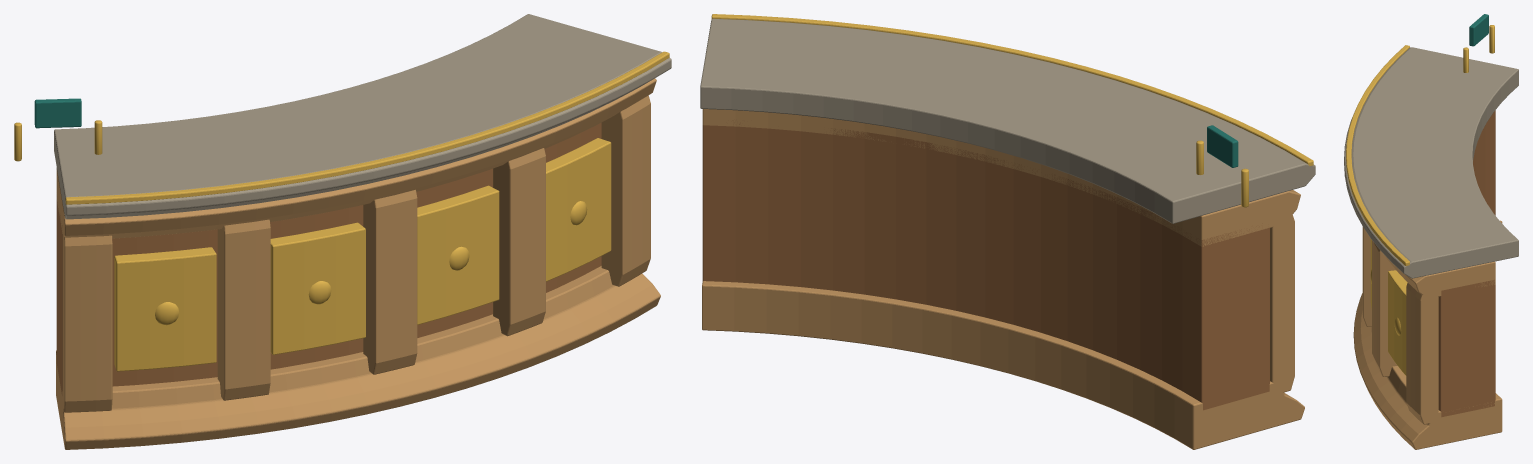
Rendered from welcome-desk.glb.
3 views of the same model, side by side, from view 1: azimuth 30°, elevation 25°; view 2: azimuth 150°, elevation 25°; view 3: azimuth 270°, elevation 25° (orthographic). The views are drawn at different scales.
Visible parts, largest first — view 1: WelcomeDesk; view 2: WelcomeDesk; view 3: WelcomeDesk.
Part boxes in pixels (x1=…): WelcomeDesk: x1=14, y1=14, x2=671, y2=449; WelcomeDesk: x1=700, y1=14, x2=1315, y2=449; WelcomeDesk: x1=1344, y1=14, x2=1518, y2=449.
Bounding box in the file's own units: 2.78 × 1.36 × 0.9391.
